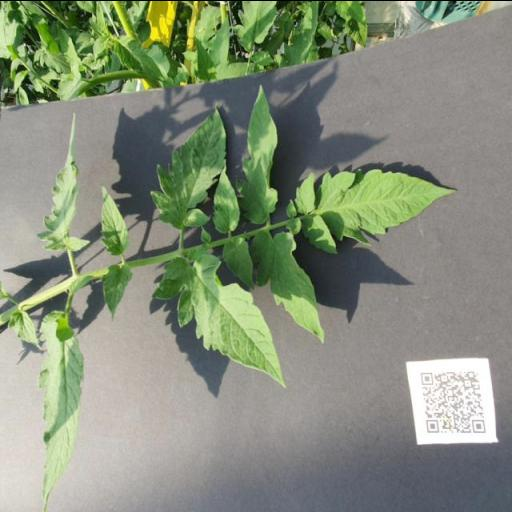Healthy: (151, 242, 287, 388), (286, 168, 458, 252), (150, 101, 226, 229), (38, 308, 84, 512), (250, 229, 326, 343), (36, 110, 91, 250), (235, 83, 279, 224), (100, 181, 130, 256), (210, 162, 238, 232), (102, 262, 134, 320)
